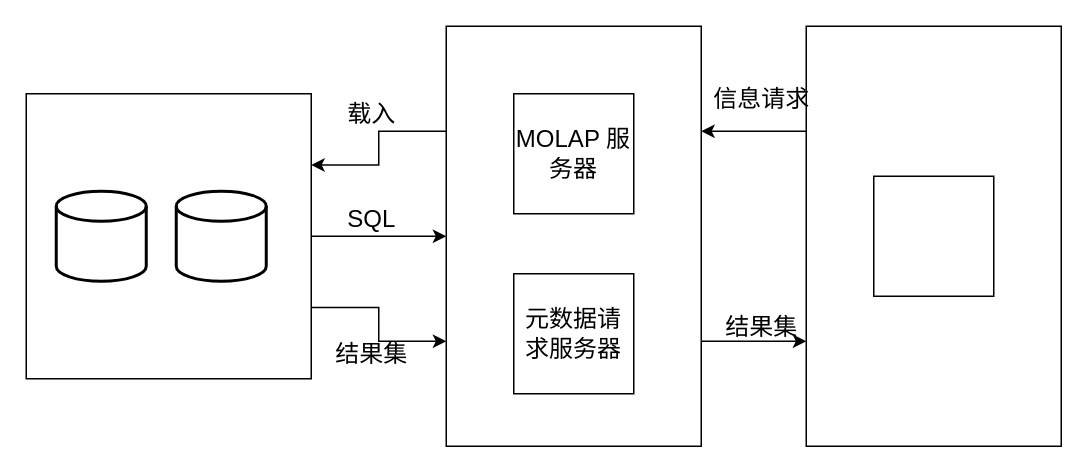
This 1088x473 diagram has some shape labels left out. The box of each missing label's shape, as (x1, y1, x2, y2) in pixels:
前端工具: (805, 25, 1061, 446)
数据库: (25, 92, 311, 379)
